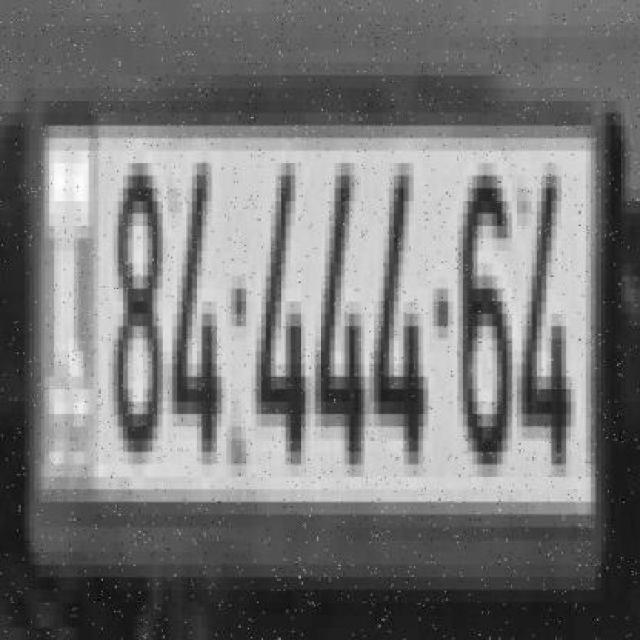licenseplate: (26, 98, 623, 565)
